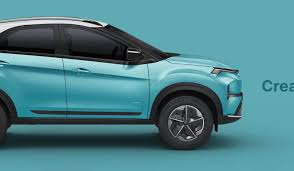Tata Nexon: (1, 15, 244, 150)
